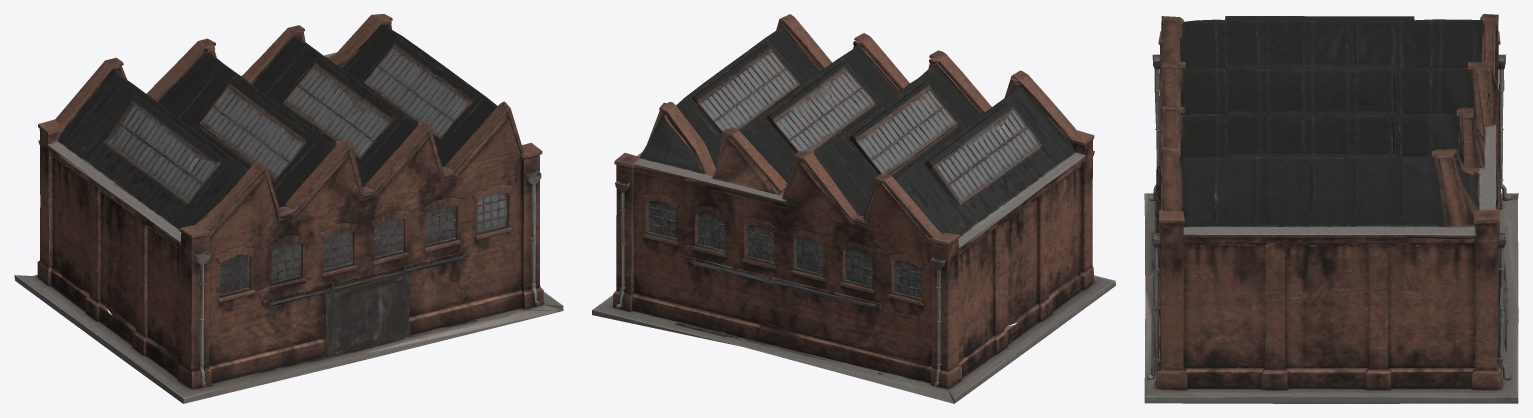
The model's file is sawtooth_hall__a.glb.
3 renders of one model, left to right at view 1: azimuth 30°, elevation 25°; view 2: azimuth 150°, elevation 25°; view 3: azimuth 270°, elevation 25°, orthographic. The views are drawn at different scales.
Visible parts, largest first — view 1: main; view 2: main; view 3: main.
Boxes of the visible parts, bbox=[...] form: main: bbox=[14, 14, 563, 403]; main: bbox=[592, 14, 1115, 403]; main: bbox=[1144, 14, 1518, 403].
Bounding box in the file's own units: 11.9 × 6.28 × 9.18.
1 material, 1 textured.
